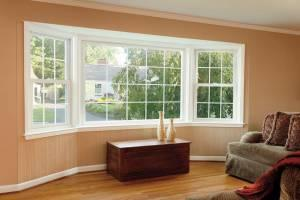window: (23, 21, 243, 124)
